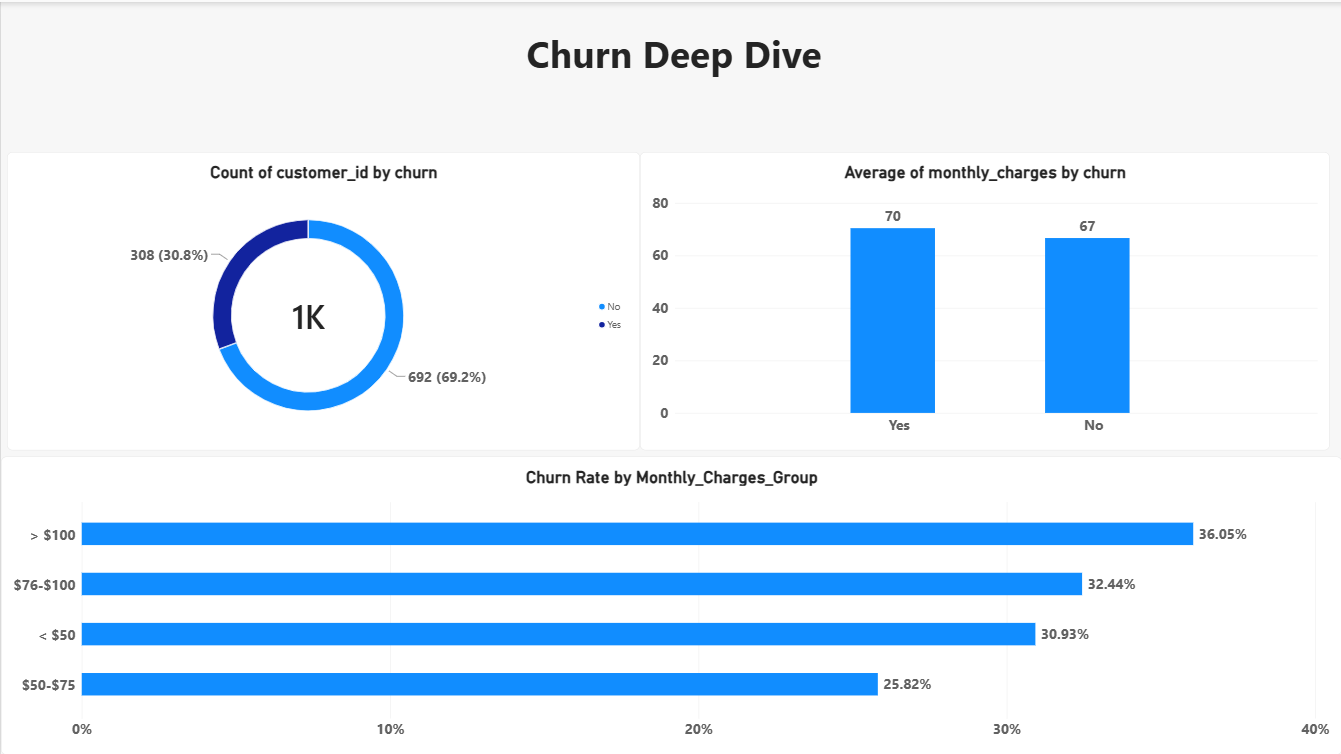

What the dashboard file says about the page in this screenshot:
{"tool":"powerbi","page":{"name":"Deep_Dive","canvas":[1920,1080],"ordinal":1},"visuals":[{"type":"textbox","box":[9.5,0,1911.1,214.7],"z":0},{"type":"donutChart","fields":{"Category":["Cleaned_Data.churn"],"Y":["CountNonNull(Cleaned_Data.customer_id)"]},"box":[9.5,214.7,906.6,427.1],"z":1},{"type":"clusteredColumnChart","fields":{"Category":["Cleaned_Data.churn"],"Y":["Avg(Cleaned_Data.monthly_charges)"]},"box":[916.2,214.7,987.8,427.1],"z":2},{"type":"clusteredBarChart","fields":{"Category":["Cleaned_Data.Monthly_Charges_Group"],"Y":["Cleaned_Data.Churn Rate"]},"box":[0,651.4,1920.7,427.1],"z":3}]}

Visuals, with their boxes in screenshot pixels (x1, y1, x2, y2), scaled from the page's 1920x1080 canvas onto the 1341x754 screenshot:
textbox: detection(7, 0, 1340, 150)
donutChart - Cleaned_Data.churn x CountNonNull(Cleaned_Data.customer_id): detection(7, 150, 640, 448)
clusteredColumnChart - Cleaned_Data.churn x Avg(Cleaned_Data.monthly_charges): detection(640, 150, 1330, 448)
clusteredBarChart - Cleaned_Data.Monthly_Charges_Group x Cleaned_Data.Churn Rate: detection(0, 455, 1340, 753)
